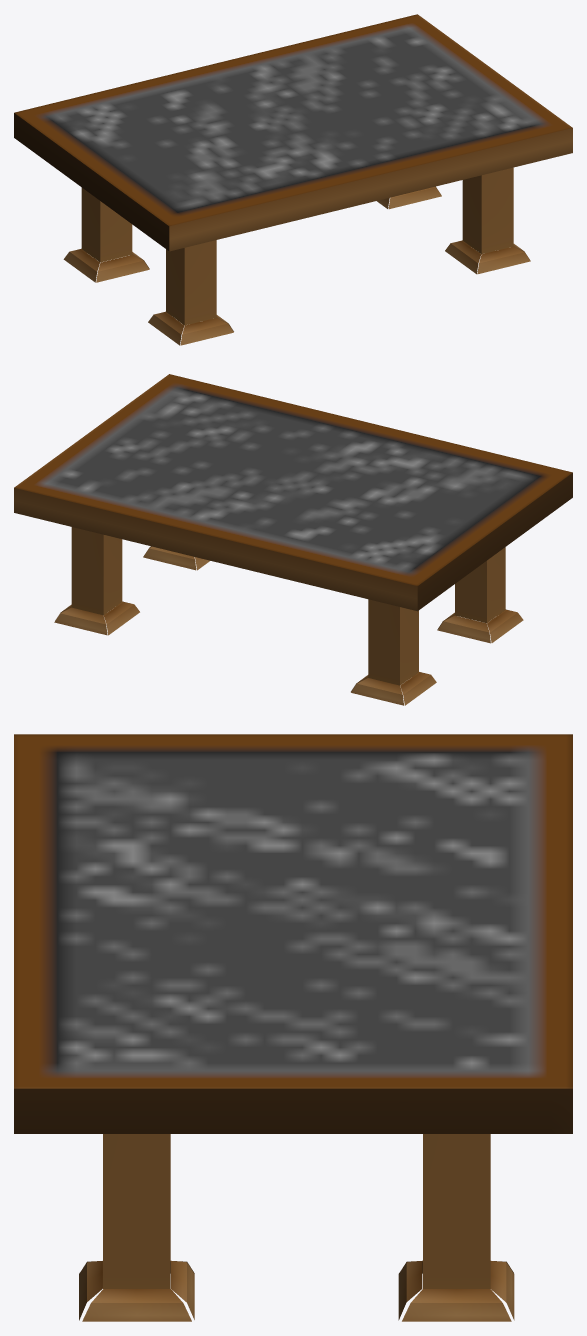
File: table_333x00.obj
3 renders of one model, top to bottom at view 1: azimuth 30°, elevation 25°; view 2: azimuth 150°, elevation 25°; view 3: azimuth 270°, elevation 25°, orthographic. The views are drawn at different scales.
Parts seen in each view (by area): view 1: Table_333x0; view 2: Table_333x0; view 3: Table_333x0.
Part boxes in pixels (<box>): Table_333x0: <box>14,14,572,345</box>; Table_333x0: <box>14,374,572,705</box>; Table_333x0: <box>14,734,572,1321</box>.
Bounding box in the file's own units: 6 × 2 × 4.
